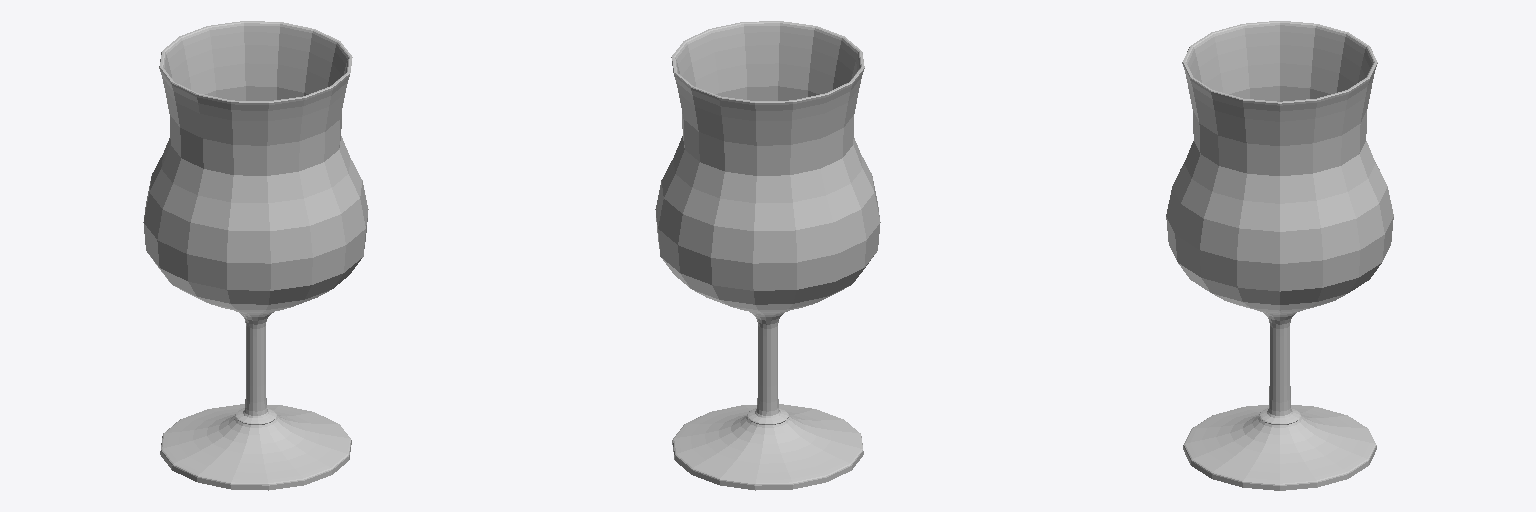
File: Poco_Grande.obj
The picture shows the model from 3 angles: view 1: azimuth 30°, elevation 25°; view 2: azimuth 150°, elevation 25°; view 3: azimuth 270°, elevation 25°; orthographic projection.
Parts seen in each view (by area): view 1: poco_grande_GEO big glasses_grp; view 2: poco_grande_GEO big glasses_grp; view 3: poco_grande_GEO big glasses_grp.
Part boxes in pixels (x1,y1,x2,y2): poco_grande_GEO big glasses_grp: (143, 21, 368, 490); poco_grande_GEO big glasses_grp: (655, 21, 880, 490); poco_grande_GEO big glasses_grp: (1166, 21, 1393, 490).
Size of the model in its own units: 3.85 by 7.25 by 3.85.